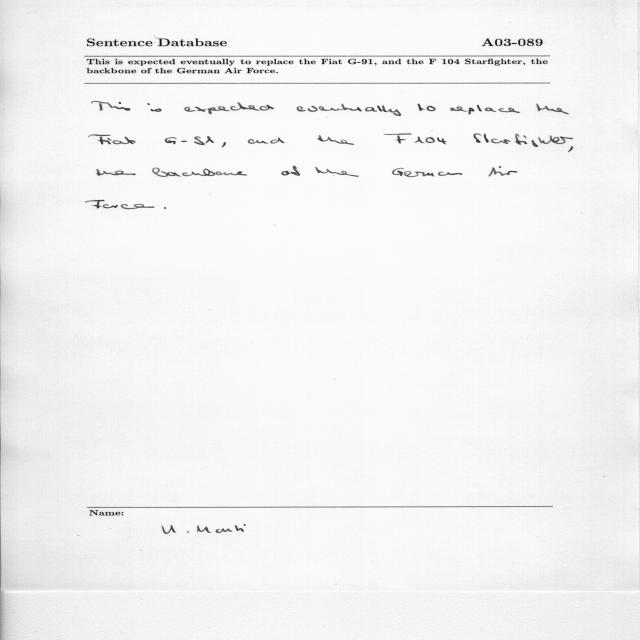word: (474, 134, 573, 147), (297, 104, 401, 116), (184, 102, 274, 114), (152, 168, 247, 177), (450, 105, 520, 114), (393, 168, 463, 177), (86, 200, 155, 209), (89, 134, 136, 145), (165, 136, 214, 145), (315, 167, 359, 177), (384, 134, 425, 144), (92, 101, 130, 111), (318, 135, 355, 145), (536, 104, 569, 114), (489, 166, 518, 177), (97, 169, 136, 176), (248, 137, 284, 144), (281, 166, 300, 176), (426, 137, 447, 144), (148, 103, 162, 112), (418, 104, 436, 111), (568, 146, 573, 152), (221, 142, 226, 147), (164, 207, 166, 209)
